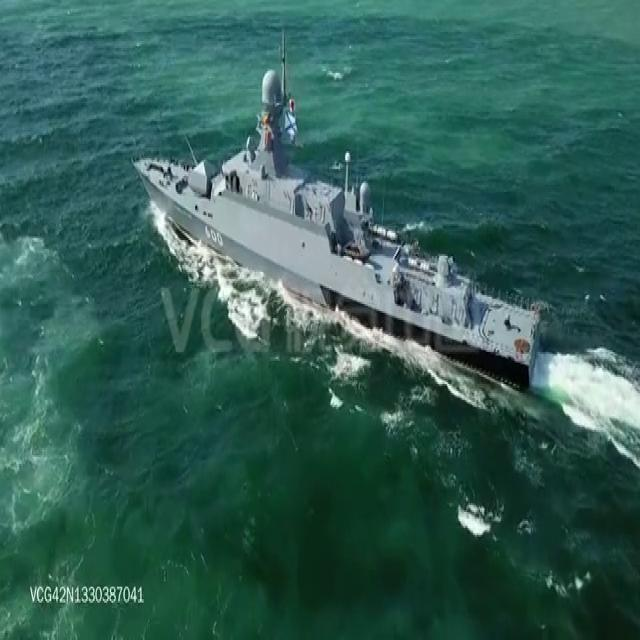navalvessels: (133, 44, 544, 396)
